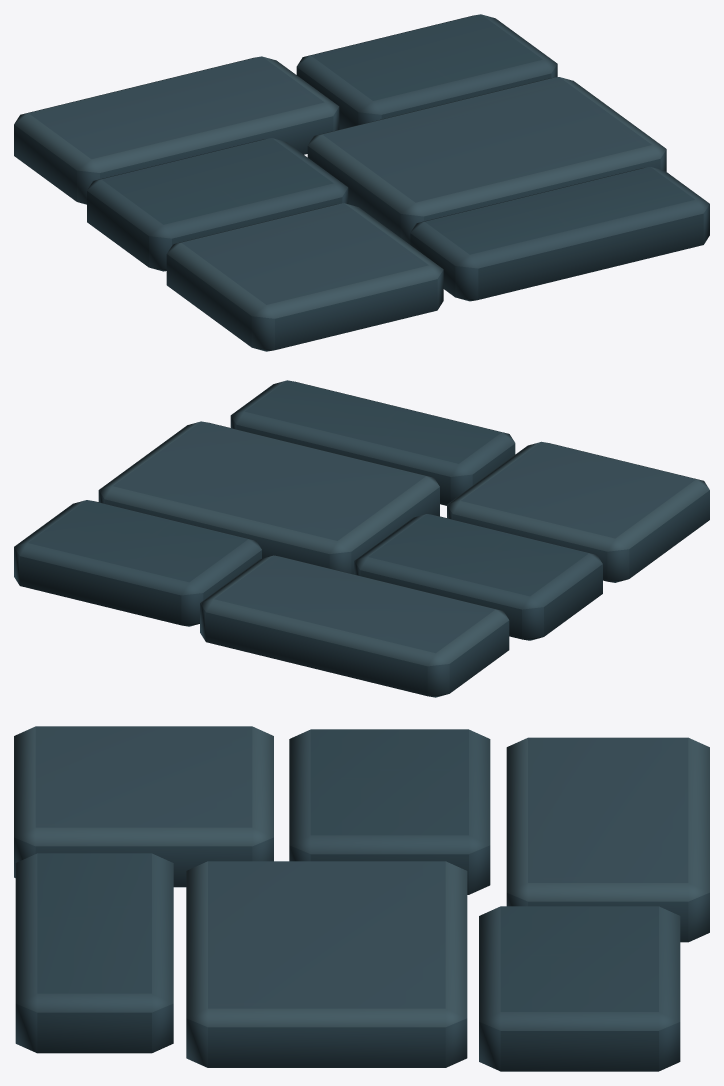
Rendered from stone_path_2.fbx.
The picture shows the model from 3 angles, top to bottom: view 1: azimuth 30°, elevation 25°; view 2: azimuth 150°, elevation 25°; view 3: azimuth 270°, elevation 25°; orthographic projection. The views are drawn at different scales.
Parts seen in each view (by area): view 1: stone_path_2; view 2: stone_path_2; view 3: stone_path_2.
Boxes of the visible parts, x1,y1,x2,y2 form: stone_path_2: (14,14,709,351); stone_path_2: (14,380,709,697); stone_path_2: (14,726,709,1071).
Size of the model in its own units: 200 by 18.28 by 194.
